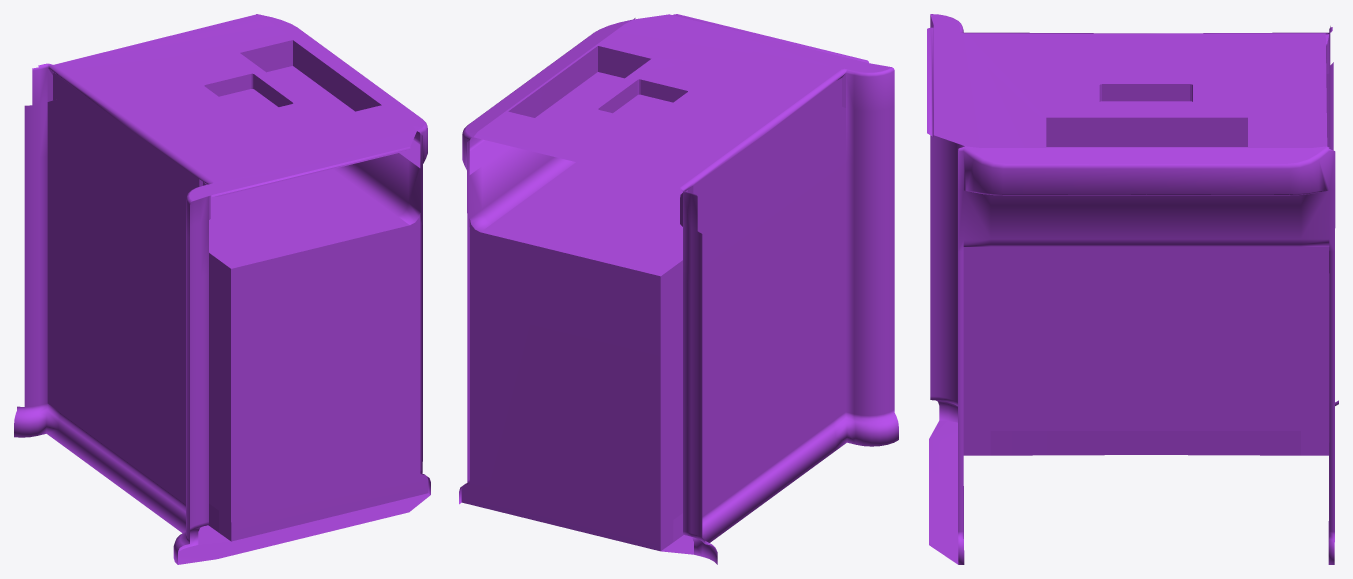
The model's file is SlicedDesk.fbx.
3 renders of one model, left to right at view 1: azimuth 30°, elevation 25°; view 2: azimuth 150°, elevation 25°; view 3: azimuth 270°, elevation 25°, orthographic. The views are drawn at different scales.
Visible parts, largest first — view 1: body; view 2: body; view 3: body.
Boxes of the visible parts, bbox=[...] form: body: bbox=[14, 14, 430, 564]; body: bbox=[459, 14, 898, 564]; body: bbox=[927, 14, 1338, 564].
Size of the model in its own units: 67.11 by 85.21 by 77.1.
